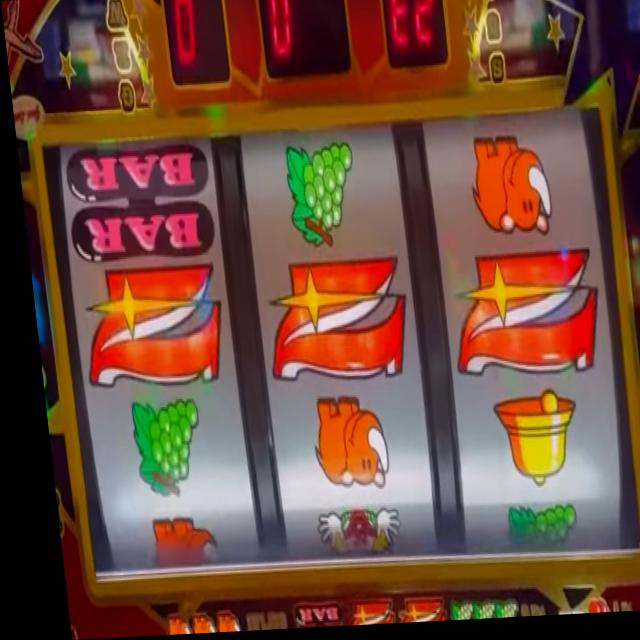bar: (56, 140, 214, 265), (279, 603, 328, 631)
cherry: (568, 602, 597, 619)
clown: (303, 505, 390, 565)
display: (34, 117, 627, 587)
elephant: (461, 138, 548, 247), (299, 396, 380, 495), (134, 512, 206, 566), (150, 612, 176, 636), (201, 611, 226, 634), (176, 612, 198, 635)
grape: (277, 142, 358, 255), (117, 390, 196, 502), (487, 499, 566, 555), (434, 601, 458, 625), (479, 601, 504, 623), (460, 601, 479, 623)
z: (438, 253, 596, 383), (68, 260, 219, 391), (250, 257, 404, 383), (384, 598, 432, 627), (335, 601, 382, 629)
